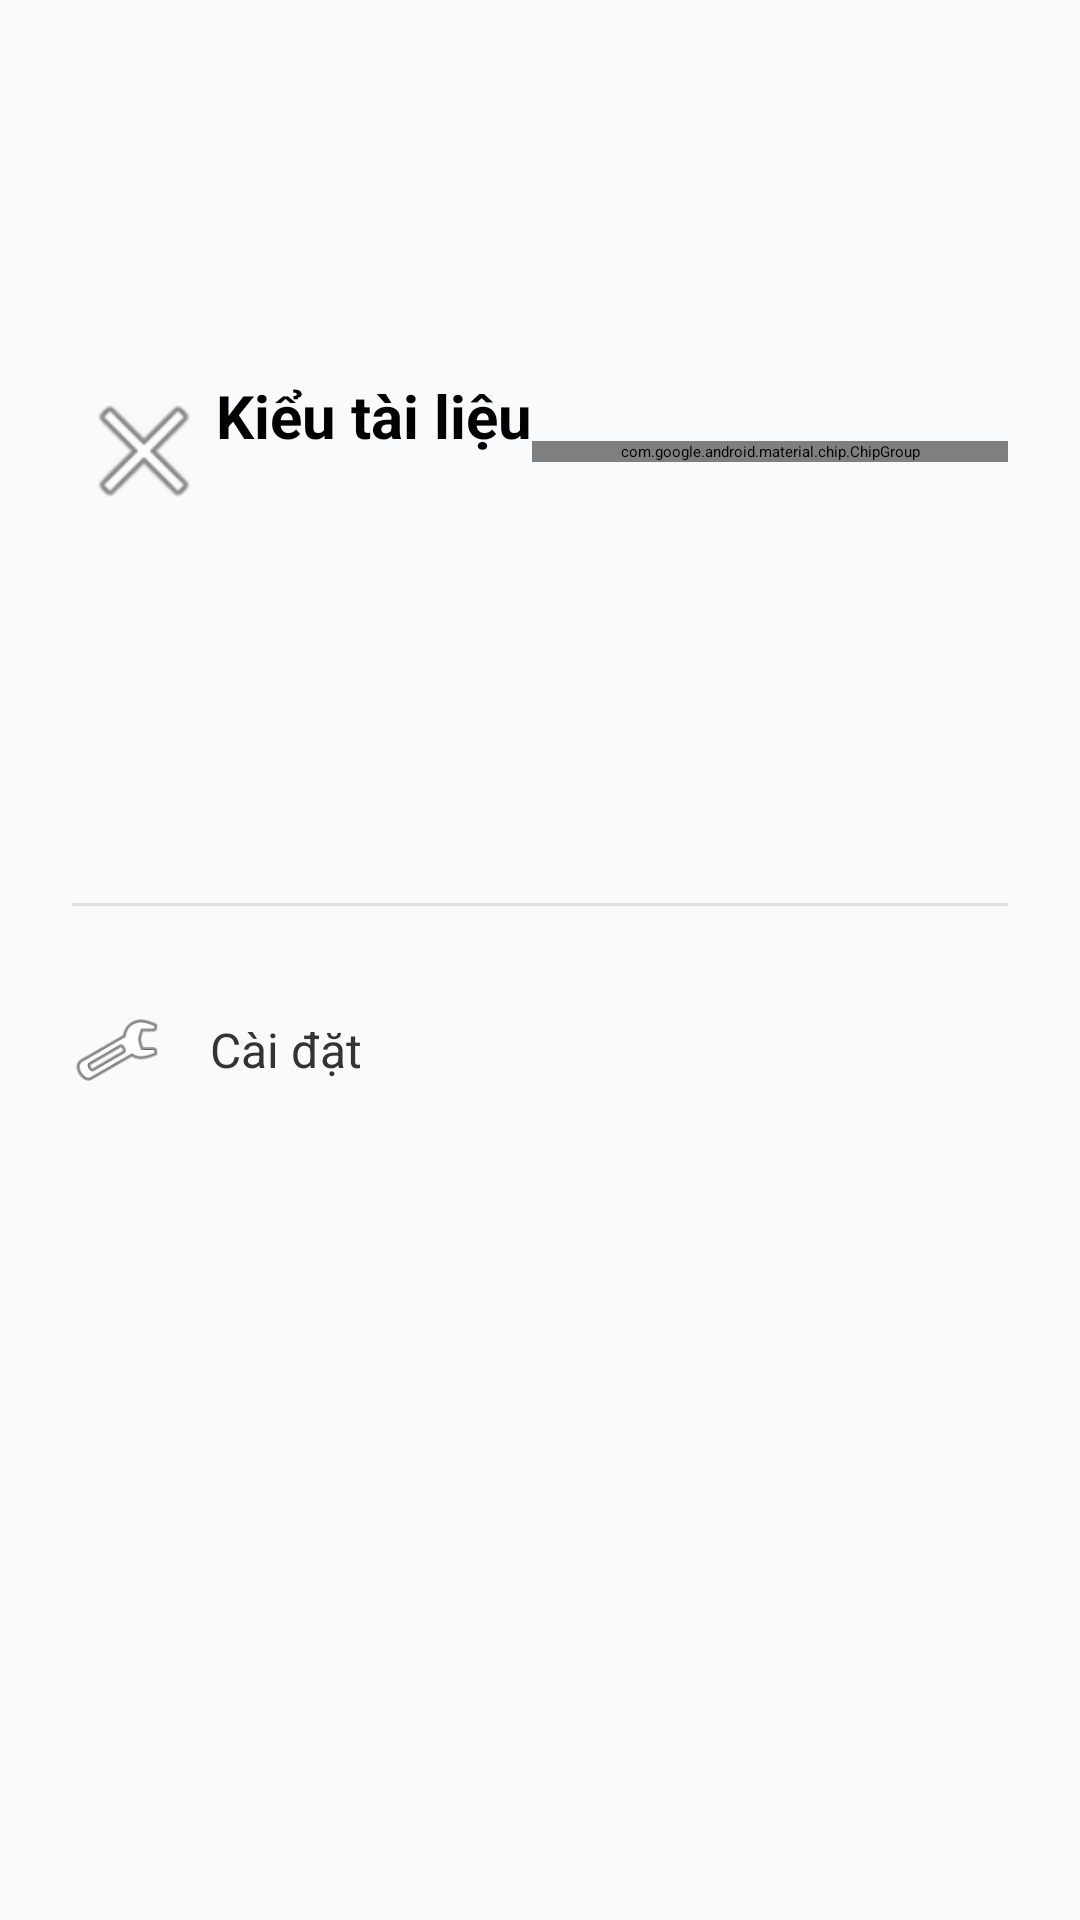

Named icons in this screenshot (1080x1920) and their centers, point (x, y):
close clear cancel: point (144, 451)
manage: point (117, 1050)
